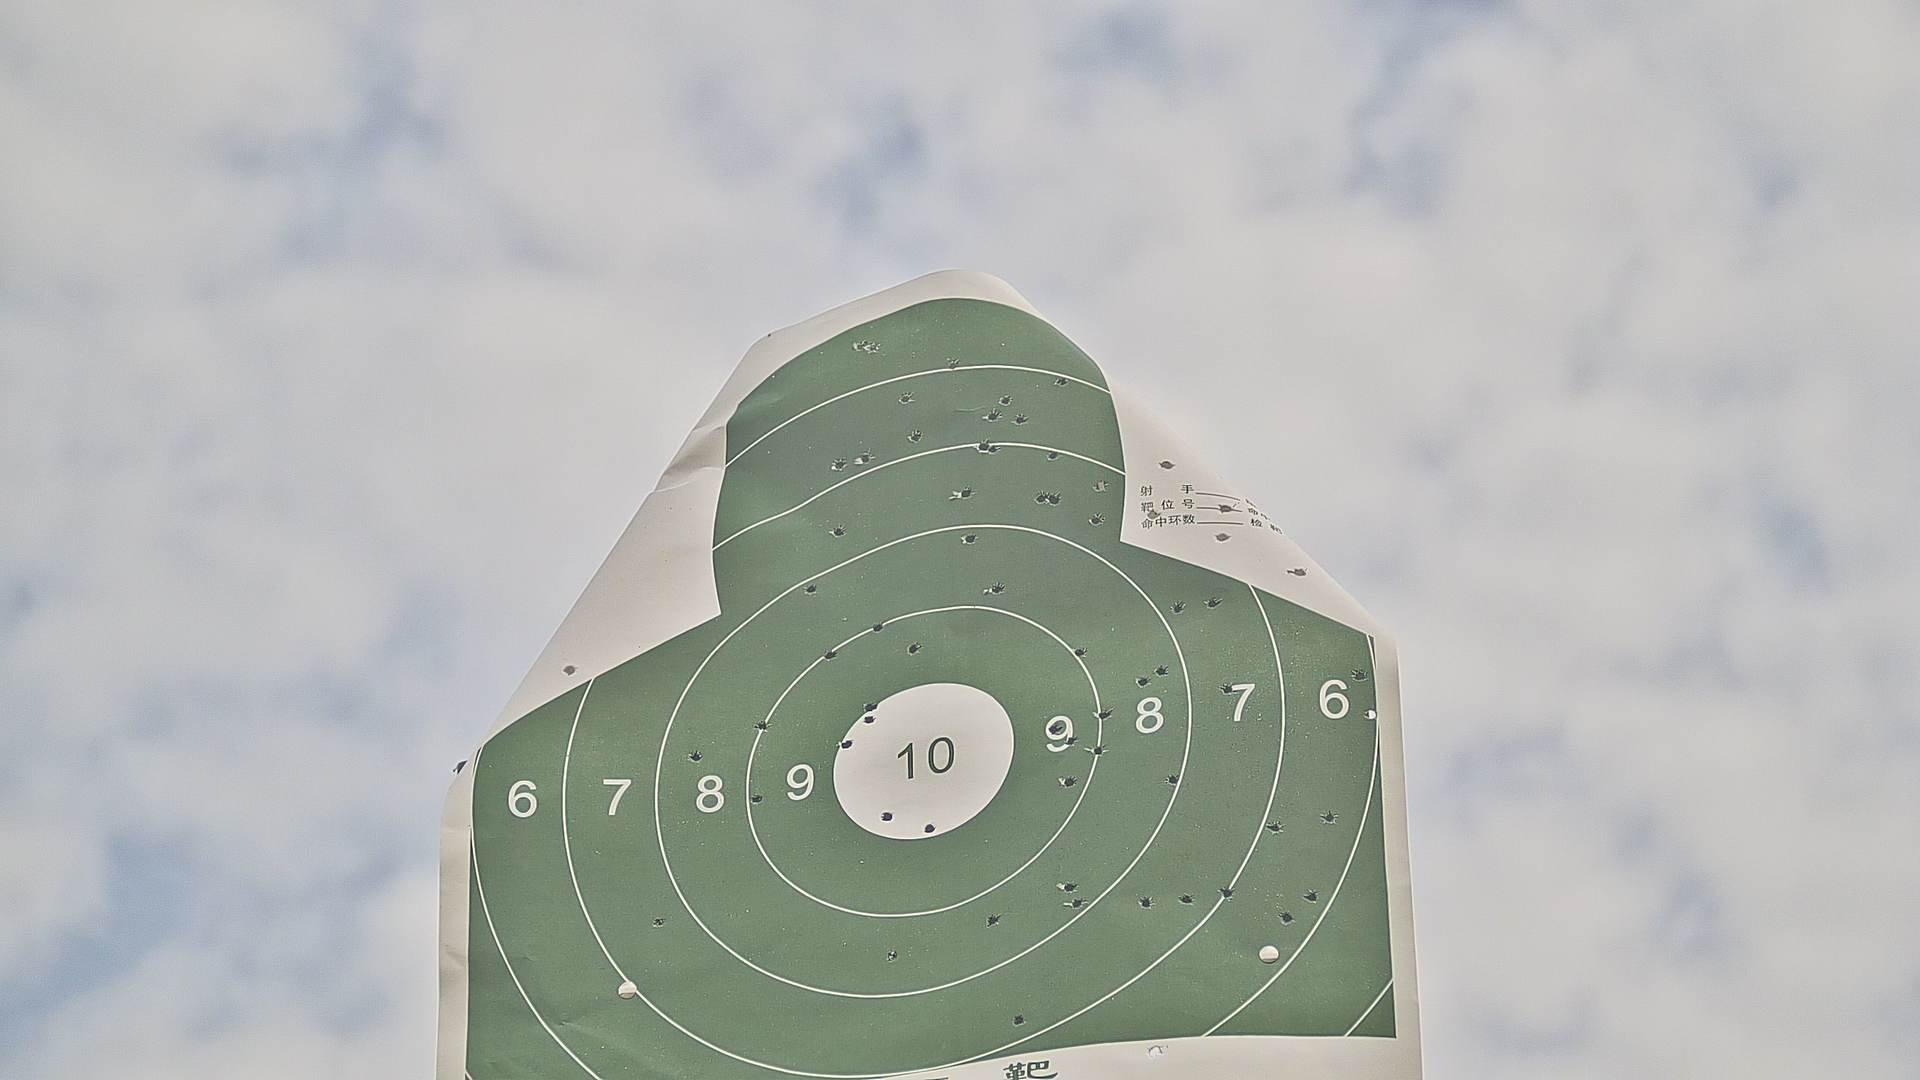hole: (560, 663, 580, 678), (1284, 567, 1309, 578), (1158, 459, 1176, 472), (1217, 502, 1236, 516), (1215, 533, 1233, 545), (1147, 506, 1162, 521), (963, 531, 977, 545), (1208, 597, 1222, 611), (1149, 1044, 1163, 1058), (1364, 707, 1377, 720), (881, 808, 894, 822), (806, 582, 818, 596), (1269, 820, 1283, 832), (1138, 898, 1154, 909), (1062, 881, 1077, 891), (1048, 448, 1060, 462), (1091, 514, 1102, 527), (1156, 665, 1168, 678), (1135, 675, 1149, 687), (1323, 810, 1335, 823), (1305, 890, 1317, 903), (1280, 913, 1294, 924), (986, 913, 1000, 924), (1064, 774, 1075, 789), (691, 749, 702, 764), (945, 357, 957, 369), (833, 458, 845, 469), (961, 487, 973, 498), (1222, 682, 1234, 694), (1221, 887, 1233, 899), (752, 793, 764, 804), (864, 713, 876, 725), (907, 640, 919, 651), (977, 440, 988, 454), (1035, 491, 1046, 504), (1180, 894, 1193, 905), (1011, 1014, 1025, 1025), (653, 915, 663, 928), (860, 452, 872, 463), (1050, 493, 1060, 505), (1356, 669, 1366, 680), (1166, 774, 1178, 785), (1100, 708, 1110, 720), (1065, 735, 1077, 745), (872, 622, 884, 633), (911, 430, 920, 443), (864, 702, 877, 711), (1015, 413, 1026, 423), (990, 583, 1001, 593), (1095, 744, 1105, 754), (757, 719, 767, 729), (924, 822, 935, 832), (1056, 377, 1068, 386), (1073, 897, 1083, 909), (1073, 647, 1087, 655), (824, 650, 837, 658), (988, 444, 997, 455), (833, 525, 843, 535), (1172, 603, 1183, 612), (899, 393, 911, 401), (1000, 396, 1011, 404), (1098, 479, 1106, 491), (1048, 723, 1058, 732), (843, 738, 852, 748), (887, 949, 895, 960), (870, 343, 878, 352), (988, 411, 997, 419), (855, 342, 862, 349)
kernel: (920, 756, 922, 761)
target: (465, 299, 1395, 1080)
ten: (832, 676, 1013, 836)
